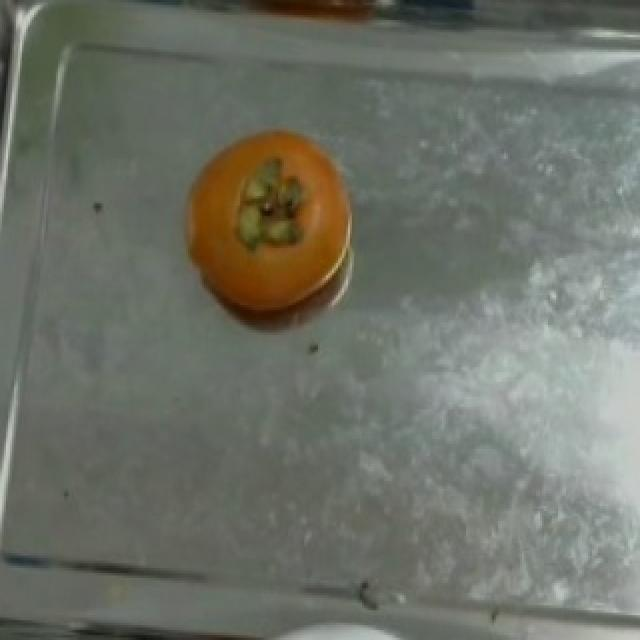Fruit: (170, 114, 374, 335), (450, 593, 640, 640)
